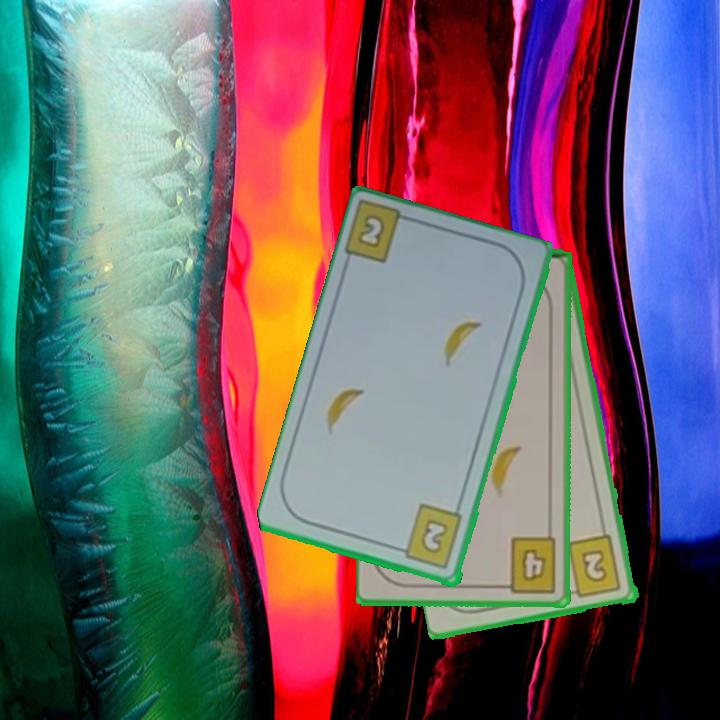2b: (393, 501, 466, 572), (343, 200, 420, 267), (564, 532, 625, 601)
4b: (497, 534, 559, 595)
